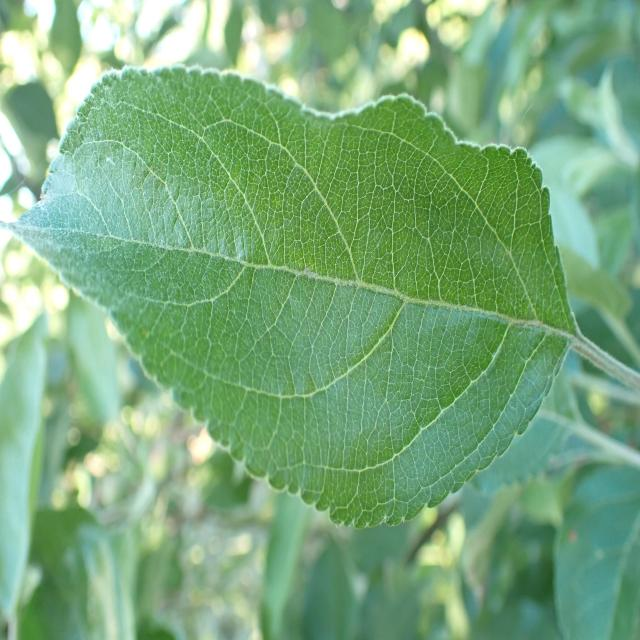healthy: (4, 62, 575, 530)
